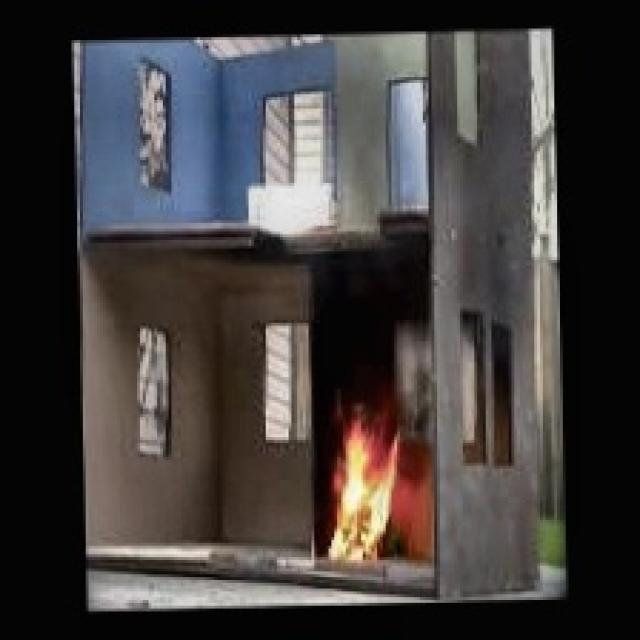fire: (322, 397, 407, 569)
